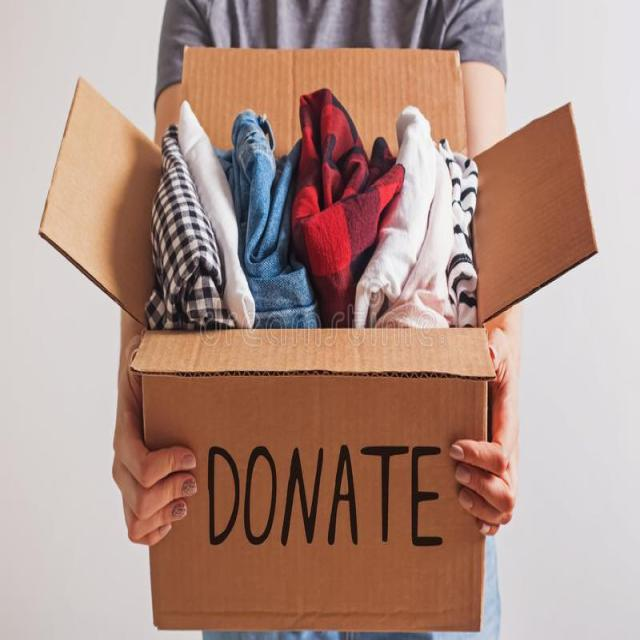clothes: (284, 72, 382, 343), (386, 99, 481, 350), (183, 114, 295, 318), (150, 139, 218, 328), (240, 105, 295, 318)
